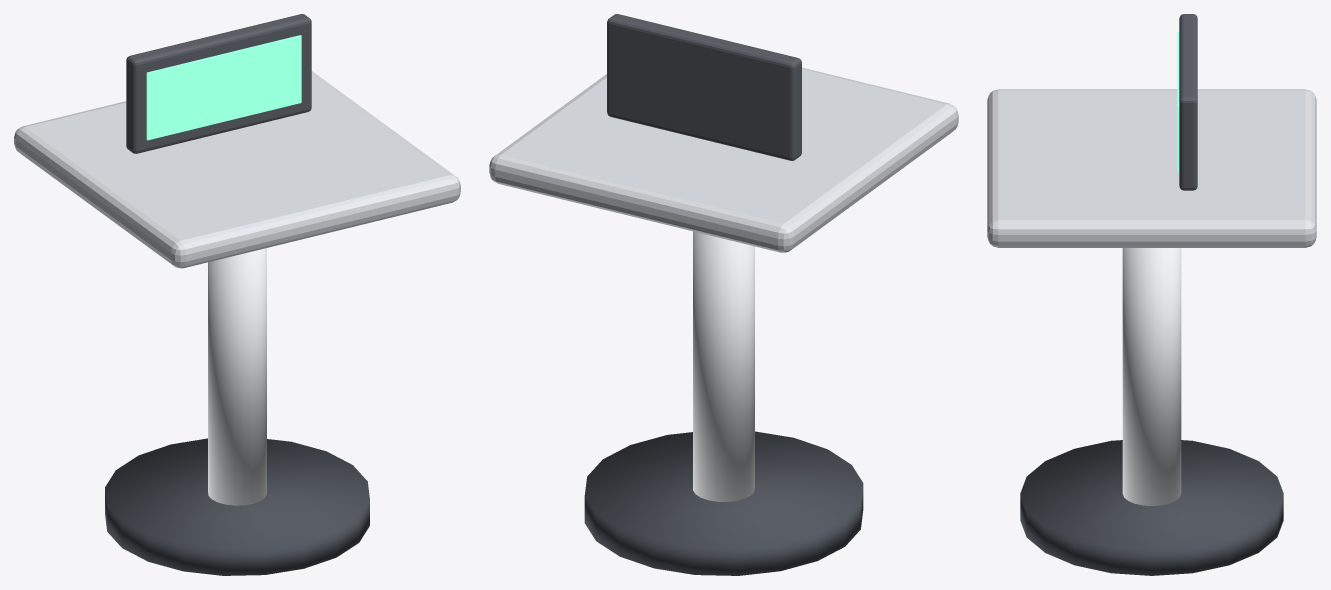
Rendered from side_table_terminal_stand.glb.
The picture shows the model from 3 angles, left to right: view 1: azimuth 30°, elevation 25°; view 2: azimuth 150°, elevation 25°; view 3: azimuth 270°, elevation 25°; orthographic projection. The views are drawn at different scales.
Visible parts, largest first — view 1: GD_side_table_terminal_stand__m2, GD_side_table_terminal_stand__m0, GD_side_table_terminal_stand__m1, GD_side_table_terminal_stand__m4, GD_side_table_terminal_stand__m3; view 2: GD_side_table_terminal_stand__m2, GD_side_table_terminal_stand__m0, GD_side_table_terminal_stand__m3, GD_side_table_terminal_stand__m1; view 3: GD_side_table_terminal_stand__m2, GD_side_table_terminal_stand__m0, GD_side_table_terminal_stand__m1, GD_side_table_terminal_stand__m3, GD_side_table_terminal_stand__m4.
Boxes of the visible parts, x1,y1,x2,y2 form: GD_side_table_terminal_stand__m2: (14,71,460,268); GD_side_table_terminal_stand__m0: (105,438,369,575); GD_side_table_terminal_stand__m1: (208,248,266,505); GD_side_table_terminal_stand__m4: (146,35,301,140); GD_side_table_terminal_stand__m3: (126,14,311,153); GD_side_table_terminal_stand__m2: (489,67,958,252); GD_side_table_terminal_stand__m0: (584,431,863,575); GD_side_table_terminal_stand__m3: (607,14,801,160); GD_side_table_terminal_stand__m1: (693,231,754,501); GD_side_table_terminal_stand__m2: (987,89,1316,247); GD_side_table_terminal_stand__m0: (1020,440,1283,575); GD_side_table_terminal_stand__m1: (1122,248,1181,505); GD_side_table_terminal_stand__m3: (1179,14,1197,190); GD_side_table_terminal_stand__m4: (1177,32,1179,172).
Size of the model in its own units: 0.45 by 0.7 by 0.45.
